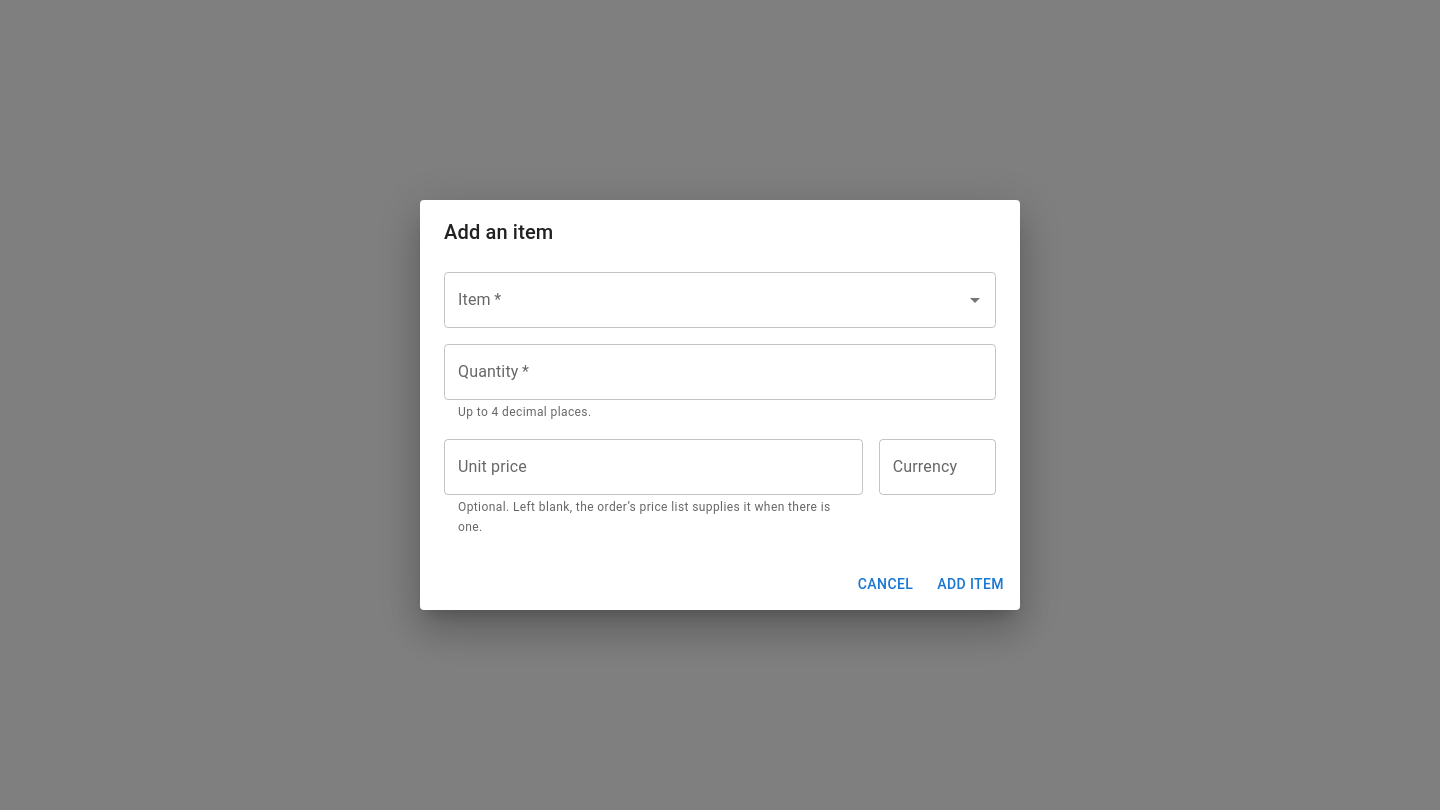
Test: AddOrderLineDialog › offers a variant created after the page loaded
The width and height of the screenshot is (1440, 810).
Click the dropdown labelled "Item".
click(705, 300)  # box [453, 281, 957, 319]
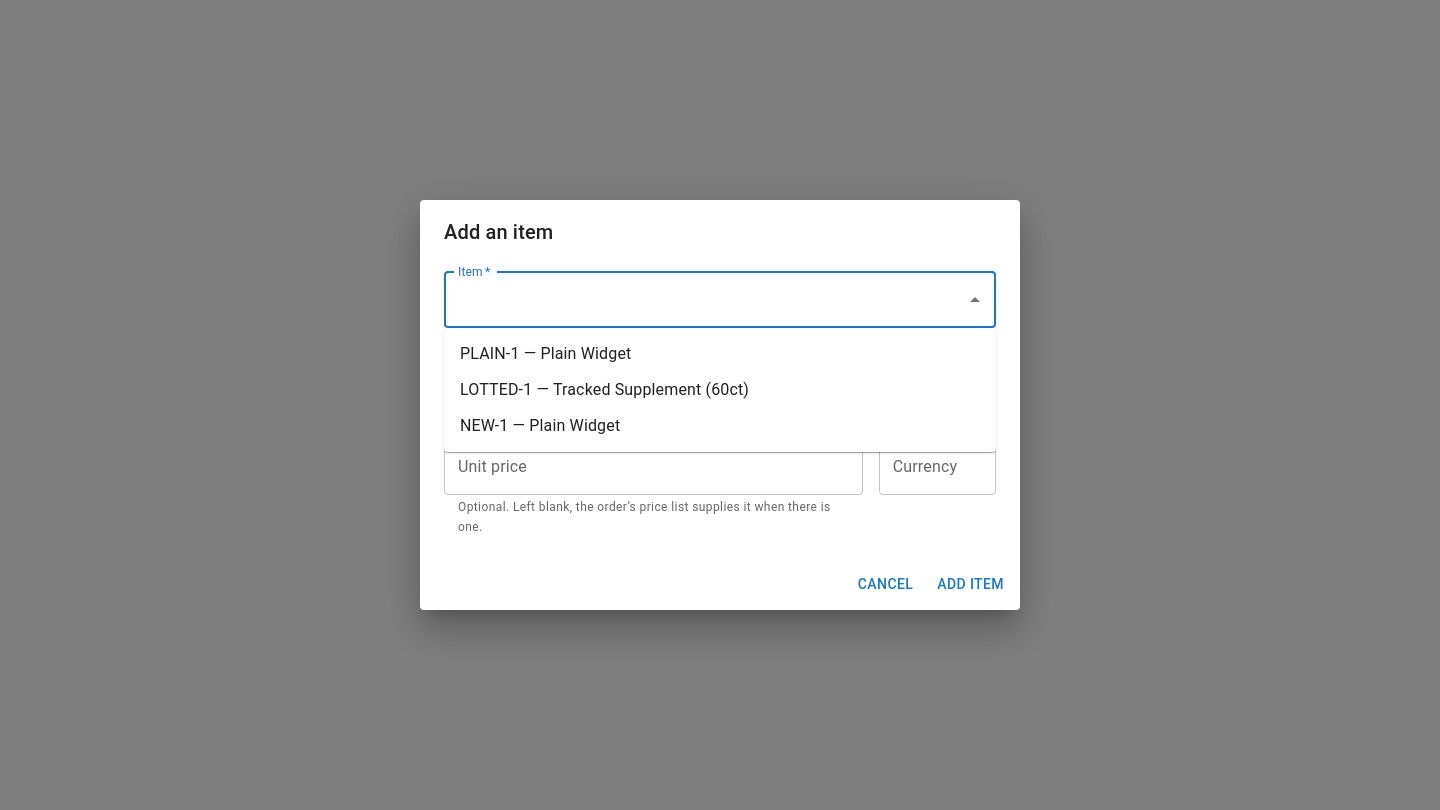
Expected: the option "NEW-1 — Plain Widget" is shown, [460, 416, 620, 435]
